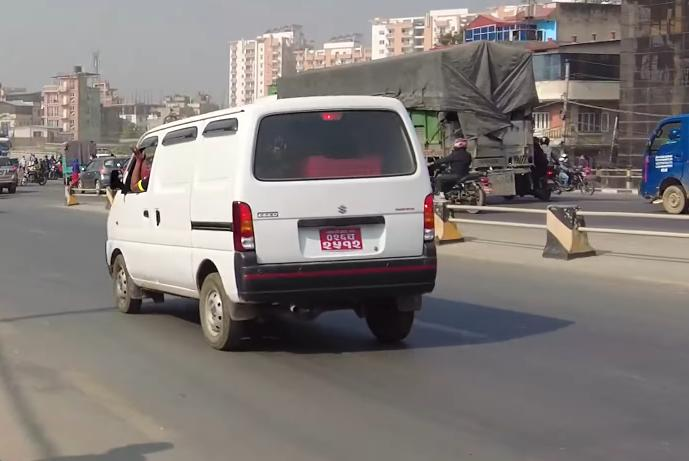van: (91, 87, 451, 354)
